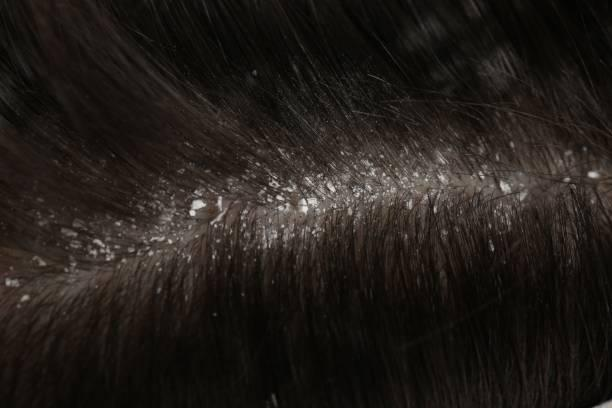dandruff: (172, 178, 238, 238), (75, 214, 134, 280), (388, 178, 448, 226), (486, 150, 529, 216), (286, 176, 334, 232), (20, 238, 54, 279), (355, 149, 394, 174), (203, 305, 227, 324), (247, 58, 262, 87)
